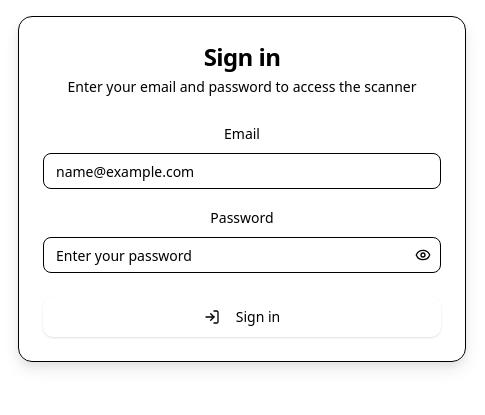
Test: LoginForm › should validate password required
The image size is (485, 415).
// Submit with valid email but no password
Type "test@example.com" into the field labelled "Email" at (242, 171), box [43,153,441,189]
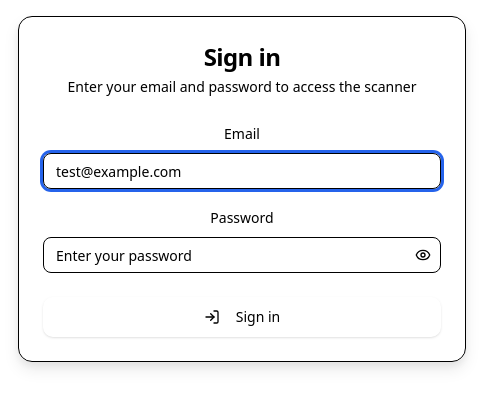
Click the button "Sign in" at (242, 317), box [43,297,441,337]
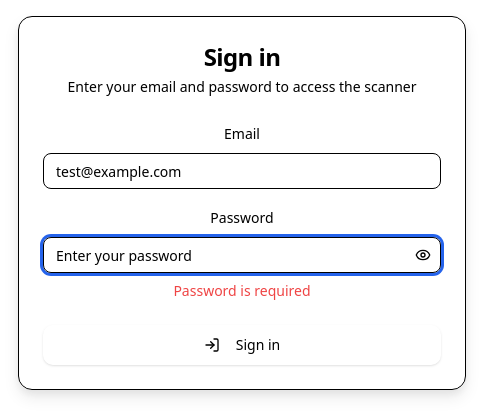
Check: the text "Password is required" is shown, box [173,281,311,300]
